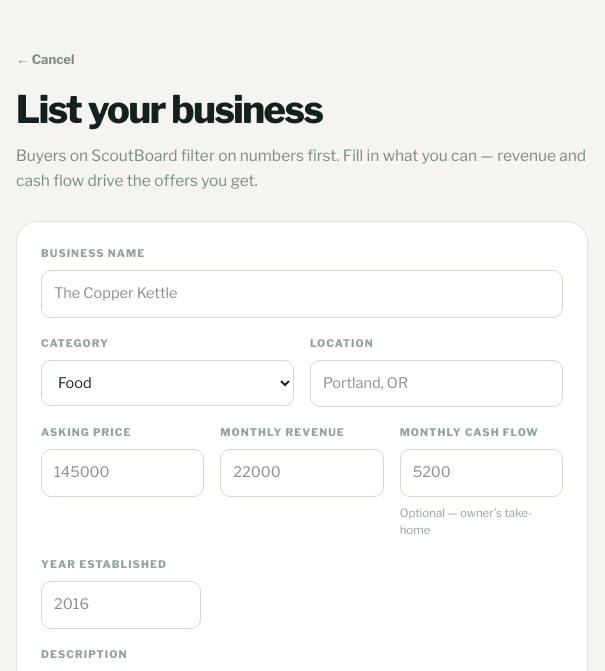
it: ListingForm › rejects cash flow above revenue as a typo
Type "Copper Kettle" into the field labelled "Business name" at (302, 294), box [41,270,563,318]
Type "NYC" into the field labelled "Location" at (436, 384), box [310,360,563,407]
Type "5000" into the number field labelled "Monthly revenue" at (302, 473), box [220,449,384,497]
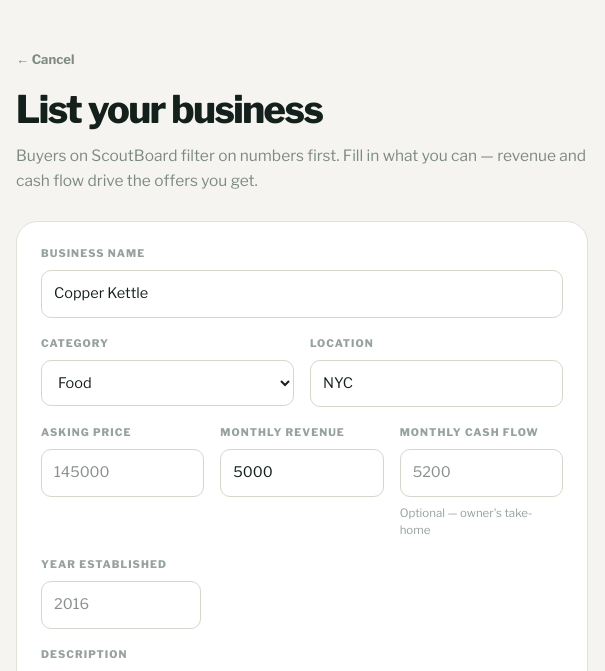
Type "2015" into the field labelled "Year established" at (121, 605), box [41,581,201,629]
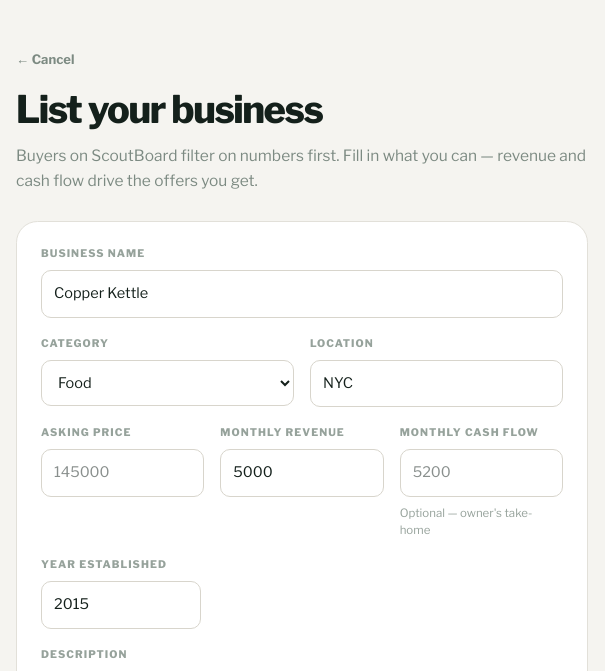
Type "120000" into the number field labelled "Asking price" at (123, 473), box [41,449,204,497]
(page scrolled)
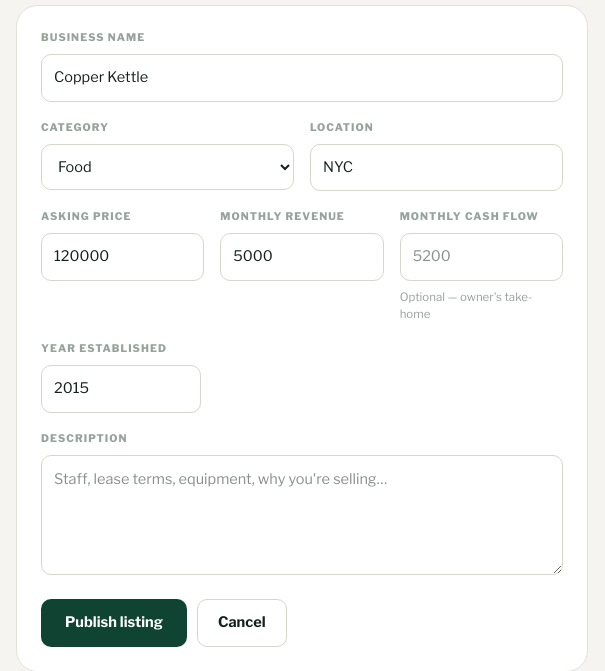
Type "A cozy cafe" into the text box labelled "Description" at (302, 515), box [41,455,563,575]
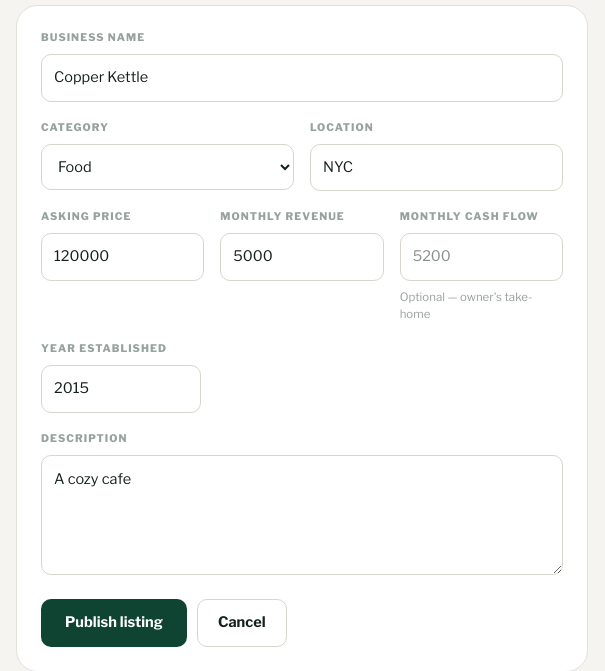
Type "9999" into the number field labelled "Monthly cash flow" at (481, 257), box [400,233,563,281]
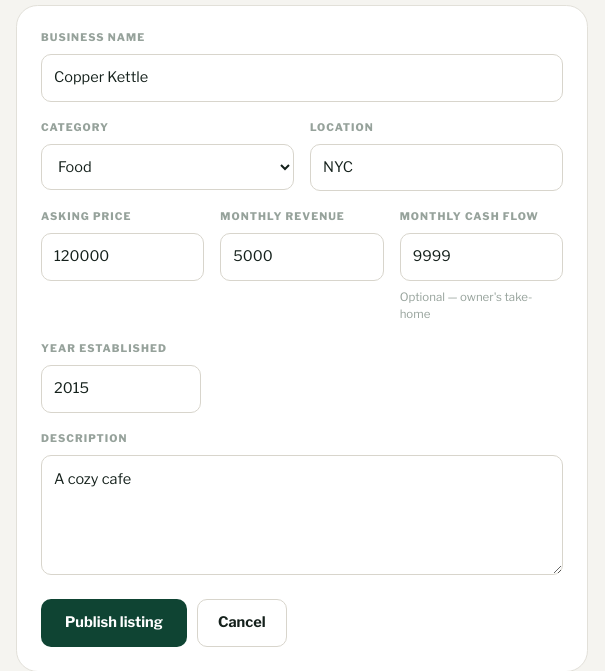
Click the button "Publish listing" at (114, 623), box [41,599,187,647]
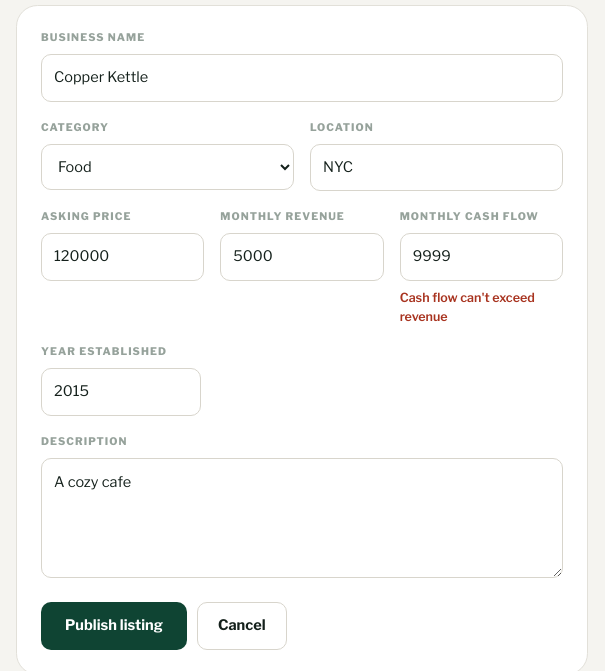
Expected: the text "Cash flow can't exceed revenue" is shown, [400,290,535,324]
